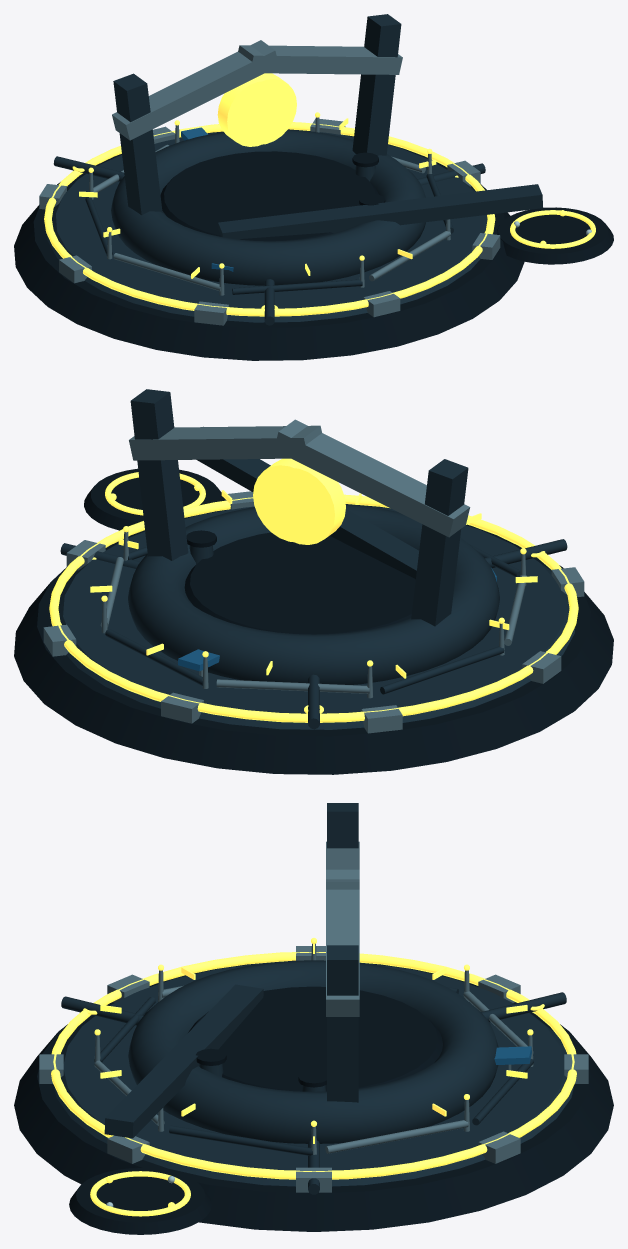
Rendered from metalMine-stage1.glb.
The picture shows the model from 3 angles, top to bottom: view 1: azimuth 30°, elevation 25°; view 2: azimuth 150°, elevation 25°; view 3: azimuth 270°, elevation 25°; orthographic projection. The views are drawn at different scales.
Parts seen in each view (by area): view 1: armored-foundation, excavation-rim, upper-deck, excavation-pit, excavator-boom (×2), excavator-tower (×2), ore-conveyor, perimeter-light, bucket-wheel (×2), landing-pad, landing-guidance-light, service-catwalk-2 (+7 smaller); view 2: armored-foundation, excavation-rim, upper-deck, excavation-pit, excavator-boom (×2), excavator-tower (×2), perimeter-light, bucket-wheel (×2), ore-conveyor, landing-pad, service-catwalk-5, service-catwalk-4 (+12 smaller); view 3: excavation-rim, armored-foundation, upper-deck, excavation-pit, perimeter-light, ore-conveyor, landing-pad, excavator-tower (×2), excavator-boom (×2), landing-guidance-light, service-catwalk-0, service-catwalk-7 (+13 smaller).
Part boxes in pixels (box(x1,y1,x2,y2)): armored-foundation: box(14, 130, 524, 360); excavation-rim: box(111, 129, 425, 285); upper-deck: box(47, 131, 493, 322); excavation-pit: box(160, 151, 378, 241); excavator-boom (×2): box(112, 40, 402, 140); excavator-tower (×2): box(113, 14, 401, 215); ore-conveyor: box(218, 184, 543, 239); perimeter-light: box(44, 122, 495, 316); bucket-wheel (×2): box(217, 73, 296, 146); landing-pad: box(497, 207, 613, 264); landing-guidance-light: box(510, 210, 595, 248); service-catwalk-2: box(232, 279, 362, 294); armored-foundation: box(14, 504, 613, 774); excavation-rim: box(128, 504, 499, 684); upper-deck: box(51, 506, 575, 729); excavation-pit: box(184, 532, 415, 634); excavator-boom (×2): box(129, 419, 470, 537); excavator-tower (×2): box(130, 389, 468, 626); perimeter-light: box(49, 494, 578, 722); bucket-wheel (×2): box(253, 458, 345, 544); ore-conveyor: box(196, 426, 418, 579); landing-pad: box(84, 468, 225, 530); service-catwalk-5: box(216, 679, 369, 693); service-catwalk-4: box(380, 646, 504, 694); excavation-rim: box(128, 960, 498, 1143); armored-foundation: box(14, 961, 613, 1231); upper-deck: box(53, 962, 574, 1186); excavation-pit: box(188, 986, 442, 1091); perimeter-light: box(51, 952, 576, 1179); ore-conveyor: box(104, 984, 263, 1138); landing-pad: box(69, 1168, 211, 1234); excavator-tower (×2): box(327, 803, 358, 1102); excavator-boom (×2): box(326, 841, 359, 1016); landing-guidance-light: box(90, 1171, 190, 1216); service-catwalk-0: box(169, 1125, 312, 1155); service-catwalk-7: box(325, 1120, 468, 1153).
Size of the model in its own units: 9.3 by 3.6 by 8.53.
